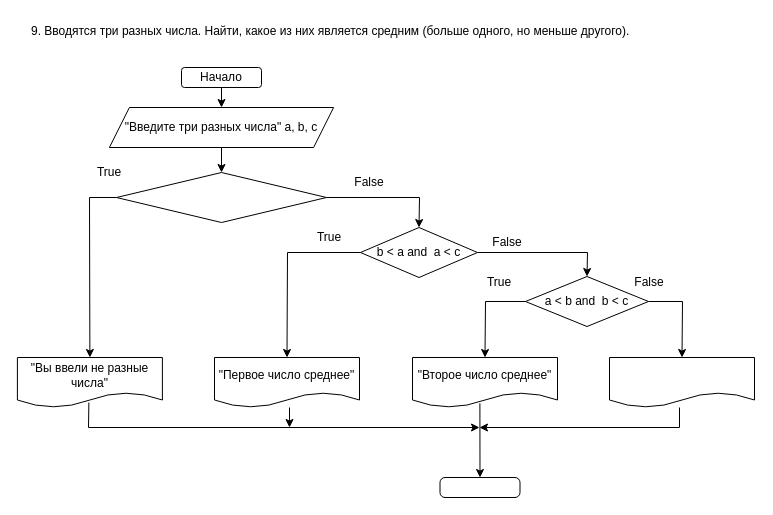
Image size: 773x515. Some labels were removed from this diagram. The centre of each missing label's shape, as x and y in pixels:
"Третье число среднее": point 681,382
a == b or b == c or a == c: point 221,197
Конец: point 479,487
